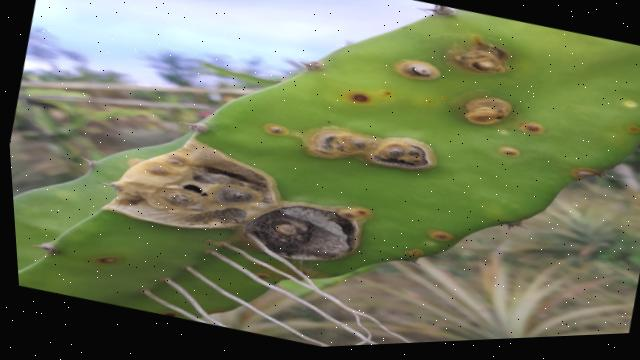stemcanker: (340, 85, 385, 109), (395, 58, 441, 81), (506, 118, 548, 139), (419, 224, 458, 245), (334, 204, 378, 222), (257, 119, 292, 139), (493, 142, 527, 161)
